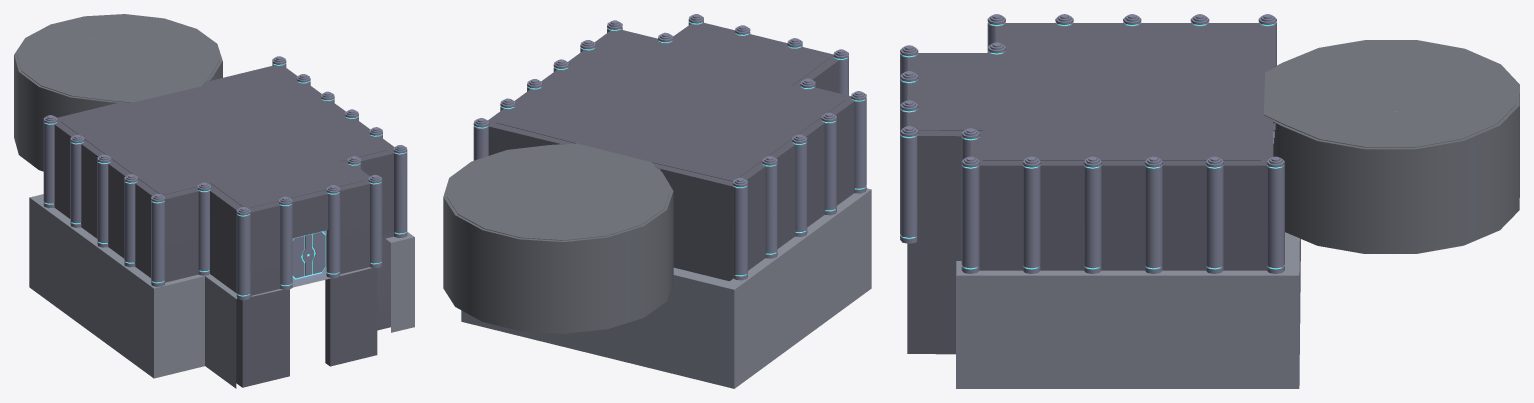
File: Blocking_Tour_Tuto_Passe.fbx
3 renders of one model, left to right at view 1: azimuth 30°, elevation 25°; view 2: azimuth 150°, elevation 25°; view 3: azimuth 270°, elevation 25°, orthographic. The views are drawn at different scales.
Parts seen in each view (by area): view 1: Salle1.001, Salle1Plafond.001, Sol.022, SalleAscenseurPlafond.001, PorteVersTour.012, SalleAscenseur.001, Salle1Mur.001, PorteVersTour.008, PorteVersTour.009, PorteVersTour.007, PorteVersTour.010, PorteVersLaboD.002 (+2 smaller); view 2: Salle1Plafond.001, Sol.022, SalleAscenseur.001, Salle1.001, SalleAscenseurPlafond.001, PorteVersTour.012, PorteVersTour.007, PorteVersTour.011, PorteVersTour.008; view 3: Salle1Plafond.001, Sol.022, Salle1.001, SalleAscenseur.001, SalleAscenseurPlafond.001, PorteVersTour.011, PorteVersTour.010, PorteVersTour.009, PorteVersTour.012, PorteVersTour.008, PorteVersTour.007.
Part boxes in pixels (left/top/right/bottom): Salle1.001: left=54, top=65, right=394, bottom=387; Salle1Plafond.001: left=60, top=69, right=387, bottom=208; Sol.022: left=29, top=194, right=414, bottom=388; SalleAscenseurPlafond.001: left=17, top=14, right=219, bottom=102; PorteVersTour.012: left=43, top=115, right=138, bottom=267; SalleAscenseur.001: left=14, top=14, right=222, bottom=171; Salle1Mur.001: left=340, top=150, right=394, bottom=330; PorteVersTour.008: left=236, top=196, right=292, bottom=300; PorteVersTour.009: left=326, top=174, right=382, bottom=278; PorteVersTour.007: left=151, top=182, right=211, bottom=286; PorteVersTour.010: left=347, top=145, right=407, bottom=237; PorteVersLaboD.002: left=308, top=230, right=326, bottom=280; Salle1Plafond.001: left=496, top=26, right=844, bottom=181; Sol.022: left=461, top=188, right=871, bottom=388; SalleAscenseur.001: left=443, top=144, right=673, bottom=333; Salle1.001: left=488, top=23, right=854, bottom=281; SalleAscenseurPlafond.001: left=446, top=143, right=670, bottom=240; PorteVersTour.012: left=732, top=112, right=836, bottom=280; PorteVersTour.007: left=800, top=78, right=866, bottom=193; PorteVersTour.011: left=473, top=40, right=595, bottom=160; PorteVersTour.008: left=787, top=38, right=848, bottom=95; Salle1Plafond.001: left=918, top=27, right=1264, bottom=160; Sol.022: left=956, top=232, right=1300, bottom=388; Salle1.001: left=907, top=23, right=1274, bottom=354; SalleAscenseur.001: left=1273, top=40, right=1519, bottom=253; SalleAscenseurPlafond.001: left=1263, top=40, right=1516, bottom=147; PorteVersTour.011: left=1022, top=156, right=1284, bottom=273; PorteVersTour.010: left=961, top=128, right=979, bottom=273; PorteVersTour.009: left=900, top=100, right=918, bottom=243; PorteVersTour.012: left=1055, top=14, right=1276, bottom=66; PorteVersTour.008: left=900, top=45, right=918, bottom=108; PorteVersTour.007: left=987, top=14, right=1005, bottom=54.
Bounding box in the file's own units: 29.62 × 20.37 × 50.81.
